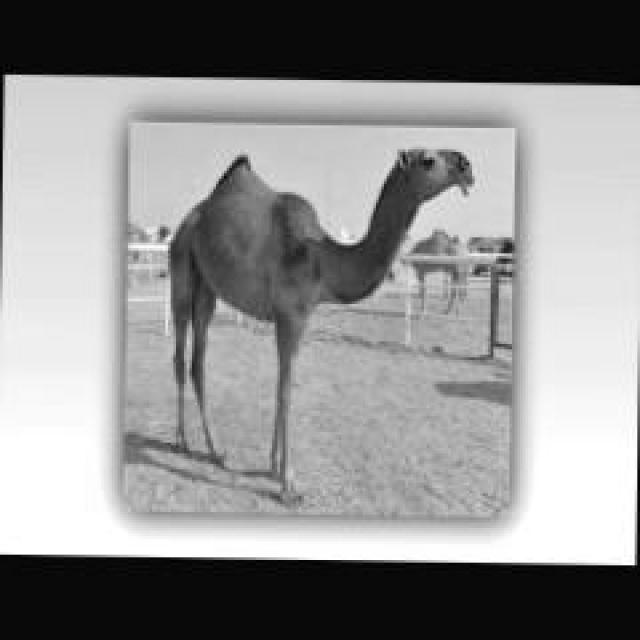Camel: (165, 144, 475, 499)
